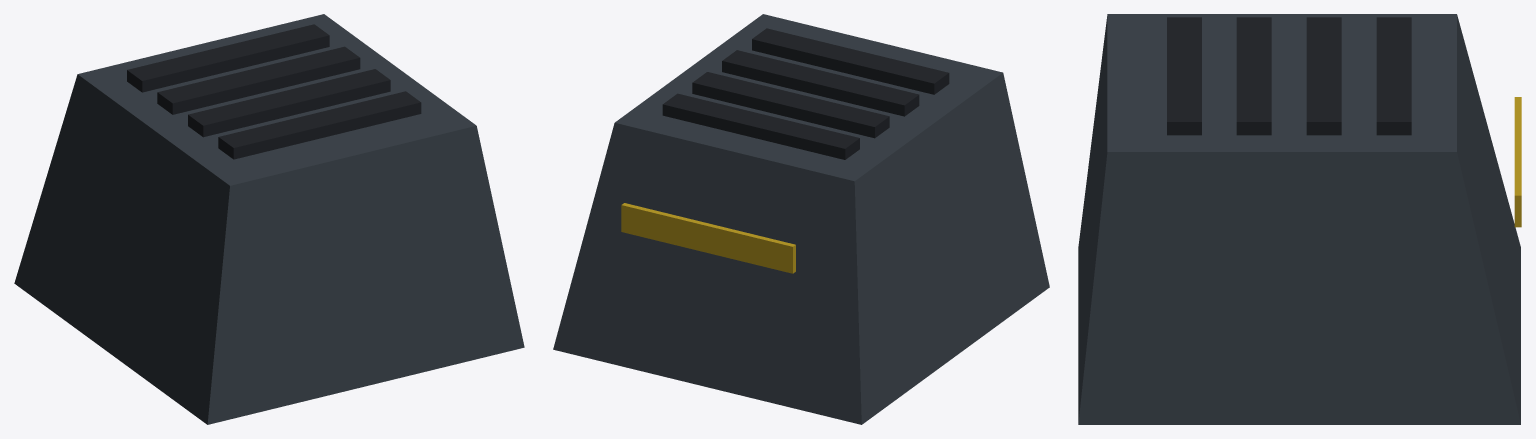
File: bp10_caps.obj
The picture shows the model from 3 angles, left to right: view 1: azimuth 30°, elevation 25°; view 2: azimuth 150°, elevation 25°; view 3: azimuth 270°, elevation 25°; orthographic projection. The views are drawn at different scales.
Visible parts, largest first — view 1: bp10_caps; view 2: bp10_caps; view 3: bp10_caps.
Part boxes in pixels (left/top/right/bottom): bp10_caps: left=14, top=14, right=524, bottom=424; bp10_caps: left=553, top=14, right=1049, bottom=424; bp10_caps: left=1078, top=14, right=1521, bottom=424.
Bounding box in the file's own units: 0.72 × 0.505 × 0.761.
